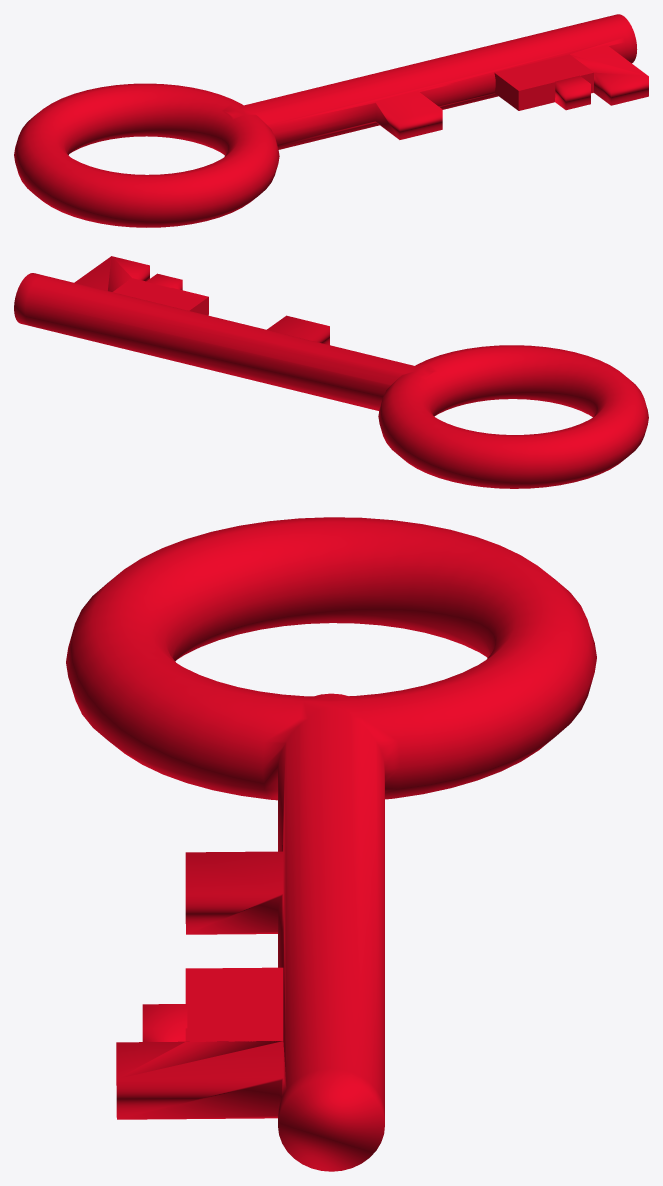
Rendered from Klucz Bo Tak 2.fbx.
3 renders of one model, top to bottom at view 1: azimuth 30°, elevation 25°; view 2: azimuth 150°, elevation 25°; view 3: azimuth 270°, elevation 25°, orthographic. The views are drawn at different scales.
Visible parts, largest first — view 1: Klucz bo tak 2; view 2: Klucz bo tak 2; view 3: Klucz bo tak 2.
Boxes of the visible parts, <box> form: Klucz bo tak 2: <box>14,14,648,227</box>; Klucz bo tak 2: <box>14,256,648,488</box>; Klucz bo tak 2: <box>66,517,596,1171</box>.
Bounding box in the file's own units: 6.43 × 0.5188 × 2.5.
